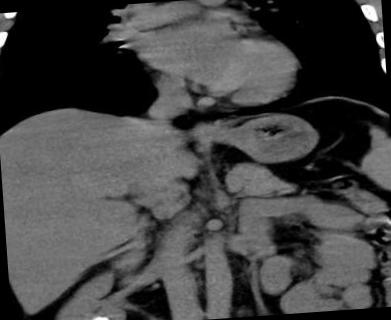Tas_Var: (87, 312, 109, 320)
